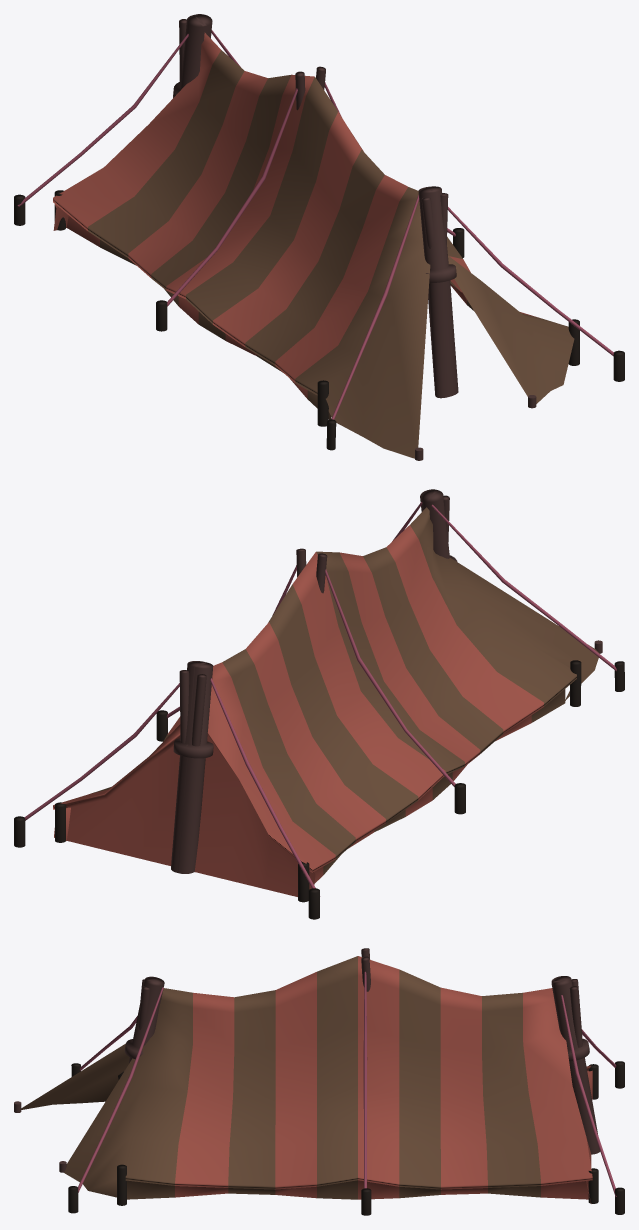
File: sm_tent.fbx
3 renders of one model, top to bottom at view 1: azimuth 30°, elevation 25°; view 2: azimuth 150°, elevation 25°; view 3: azimuth 270°, elevation 25°, orthographic. The views are drawn at different scales.
Visible parts, largest first — view 1: sm_tent; view 2: sm_tent; view 3: sm_tent.
Boxes of the visible parts, x1,y1,x2,y2 form: sm_tent: [14, 14, 624, 460]; sm_tent: [14, 489, 624, 919]; sm_tent: [14, 948, 624, 1215].
Bounding box in the file's own units: 2.19 × 1.52 × 4.28.
